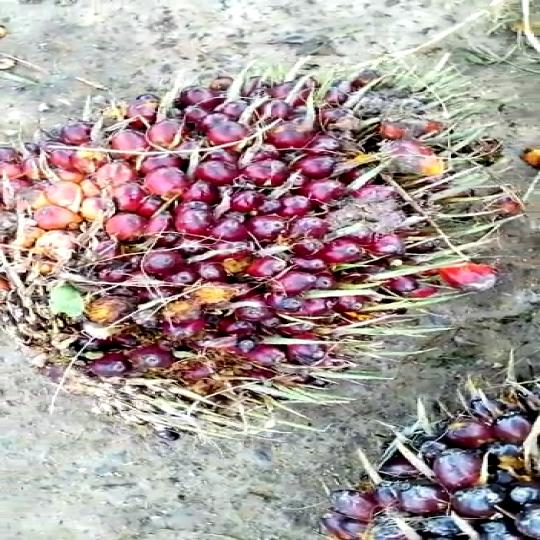masak: (0, 63, 540, 420)
